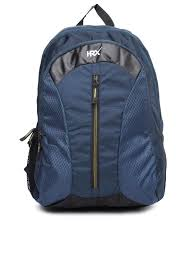backpack: (19, 3, 167, 209)
